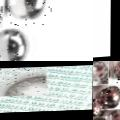ironball: (1, 0, 52, 28), (0, 67, 46, 97), (0, 28, 31, 61), (94, 88, 119, 111), (93, 61, 107, 86), (93, 98, 106, 119), (104, 106, 119, 119), (0, 0, 6, 28), (112, 61, 119, 85)
